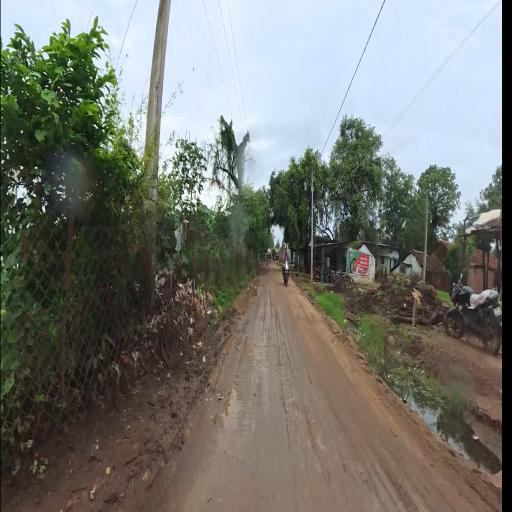longitudinal_crack: (264, 281, 310, 484), (330, 417, 410, 508)
